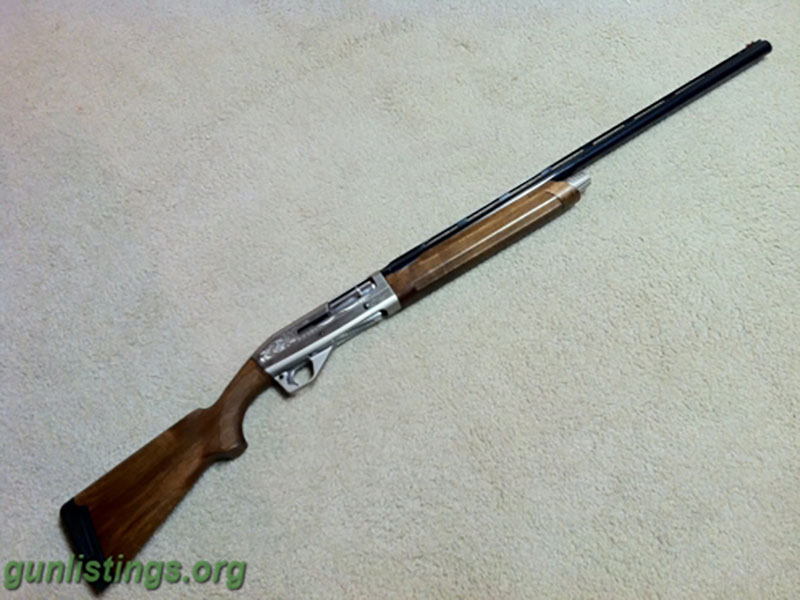fucile: (36, 10, 779, 599)
